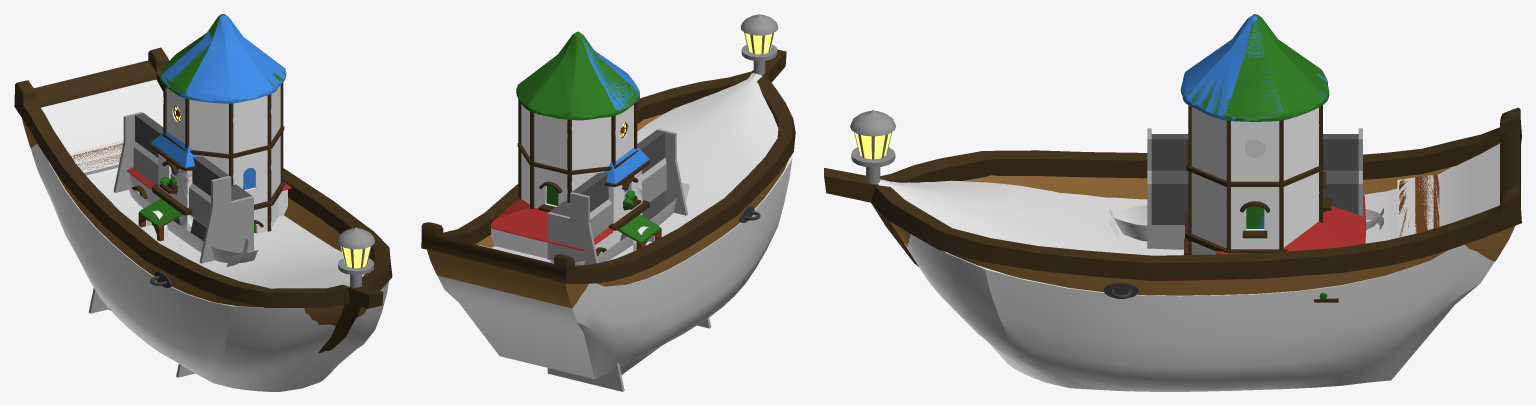
Rendered from House_2.fbx.
The picture shows the model from 3 angles, left to right: view 1: azimuth 30°, elevation 25°; view 2: azimuth 150°, elevation 25°; view 3: azimuth 270°, elevation 25°; orthographic projection. The views are drawn at different scales.
Visible parts, largest first — view 1: Cube.002, Cube, Cylinder.007_dmg, Warf No Side, House_3_full, Boat, Warf With Side, House_1_full, Cylinder, HullTry1, BackPlanks.002, House_2_full (+4 smaller); view 2: Cube.002, House_3_full, Cube, Warf No Side, Boat, House_2_full, Warf With Side, House_1_full, Cylinder.007_dmg, Cylinder, HullTry1, TopBeams.005; view 3: Cube.002, Cube, House_3_full, Cylinder.007_dmg, Boat, Warf No Side, Warf With Side, House_2_full, Cylinder, BackPlanks.002, Cube_dmg, HullTry1 (+2 smaller).
Boxes of the visible parts, x1,y1,x2,y2 form: Cube.002: (30,79,388,391); Cube: (14,47,392,353); Cylinder.007_dmg: (161,14,286,232); Warf No Side: (88,141,253,377); House_3_full: (138,14,285,241); Boat: (22,118,375,326); Warf With Side: (123,111,231,207); House_1_full: (150,131,198,231); Cylinder: (337,227,374,287); HullTry1: (126,182,257,266); BackPlanks.002: (69,140,123,175); House_2_full: (127,167,291,232); Cube.002: (437,73,792,379); House_3_full: (516,31,661,249); Cube: (421,49,795,284); Warf No Side: (547,157,711,391); Boat: (427,108,788,308); House_2_full: (490,185,629,258); Warf With Side: (570,128,676,223); House_1_full: (604,147,649,244); Cylinder.007_dmg: (517,35,639,206); Cylinder: (741,14,778,74); HullTry1: (550,183,689,265); TopBeams.005: (518,99,637,166); Cube.002: (878,143,1499,391); Cube: (824,107,1521,280); House_3_full: (1183,14,1331,254); Cylinder.007_dmg: (1180,15,1328,251); Boat: (890,167,1514,295); Warf No Side: (1147,170,1362,249); Warf With Side: (1147,128,1362,170); House_2_full: (1215,194,1366,302); Cylinder: (850,110,896,184); BackPlanks.002: (1397,174,1439,237); Cube_dmg: (1399,174,1439,236); HullTry1: (1109,205,1383,241).
Size of what is drawn, in the model's own units: 813 by 1169 by 1985.
